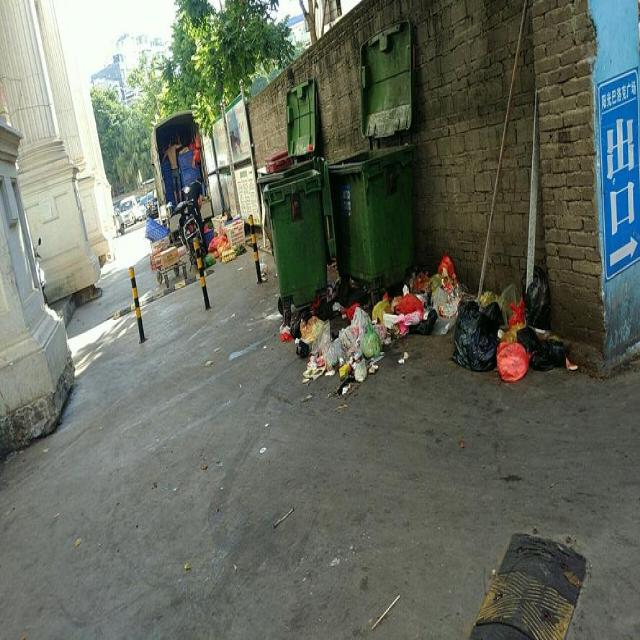garbage: (276, 253, 578, 394)
garbage_bin: (328, 142, 411, 277), (264, 168, 326, 303)
